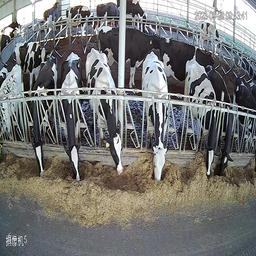cow: (84, 44, 126, 159), (181, 58, 218, 180), (97, 25, 161, 85), (146, 52, 173, 183), (30, 57, 57, 178), (205, 64, 233, 180), (160, 35, 213, 94), (60, 51, 84, 181), (232, 72, 256, 162), (13, 39, 51, 90), (1, 64, 24, 145), (64, 3, 94, 36), (197, 19, 222, 51), (117, 0, 146, 23), (97, 0, 119, 26), (42, 1, 61, 30)
